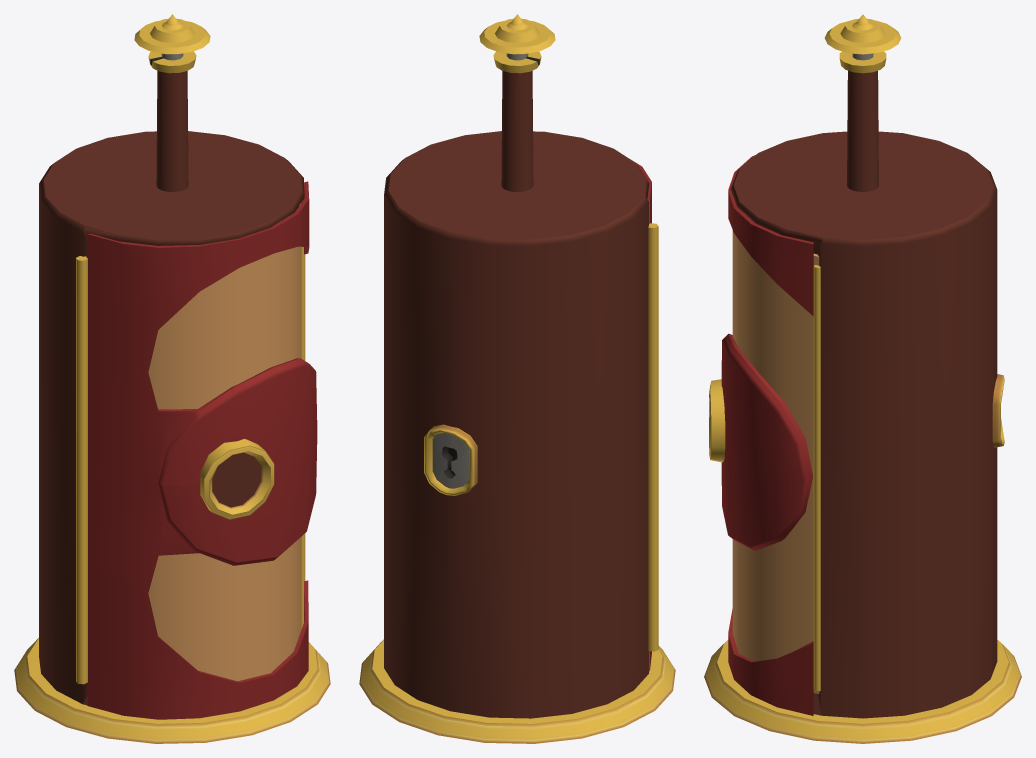
The model's file is altarOfPe_animv002BackUp.fbx.
3 views of the same model, side by side, from view 1: azimuth 30°, elevation 25°; view 2: azimuth 150°, elevation 25°; view 3: azimuth 270°, elevation 25° (orthographic).
Parts seen in each view (by area): view 1: AltarOuterDoor, Alter_Main, AltarInnerDoor, alterBase, alter_rod; view 2: Alter_Main, alterBase, alter_rod; view 3: Alter_Main, AltarOuterDoor, AltarInnerDoor, alterBase, alter_rod.
Boxes of the visible parts, bbox=[...] form: AltarOuterDoor: bbox=[87, 181, 317, 719]; Alter_Main: bbox=[39, 131, 305, 705]; AltarInnerDoor: bbox=[148, 203, 301, 681]; alterBase: bbox=[14, 638, 330, 743]; alter_rod: bbox=[134, 14, 210, 191]; Alter_Main: bbox=[384, 131, 658, 718]; alterBase: bbox=[359, 639, 675, 743]; alter_rod: bbox=[479, 14, 555, 191]; Alter_Main: bbox=[730, 131, 1004, 718]; AltarOuterDoor: bbox=[709, 155, 813, 715]; AltarInnerDoor: bbox=[732, 230, 819, 693]; alterBase: bbox=[704, 640, 1021, 743]; alter_rod: bbox=[824, 14, 901, 191].
Size of the model in its own units: 11.61 by 26.69 by 11.61.
